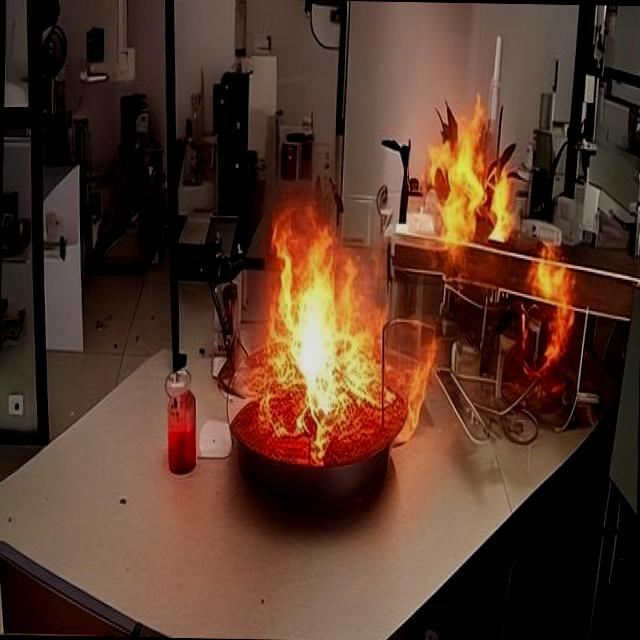fire: (220, 166, 410, 466), (412, 92, 602, 350)
